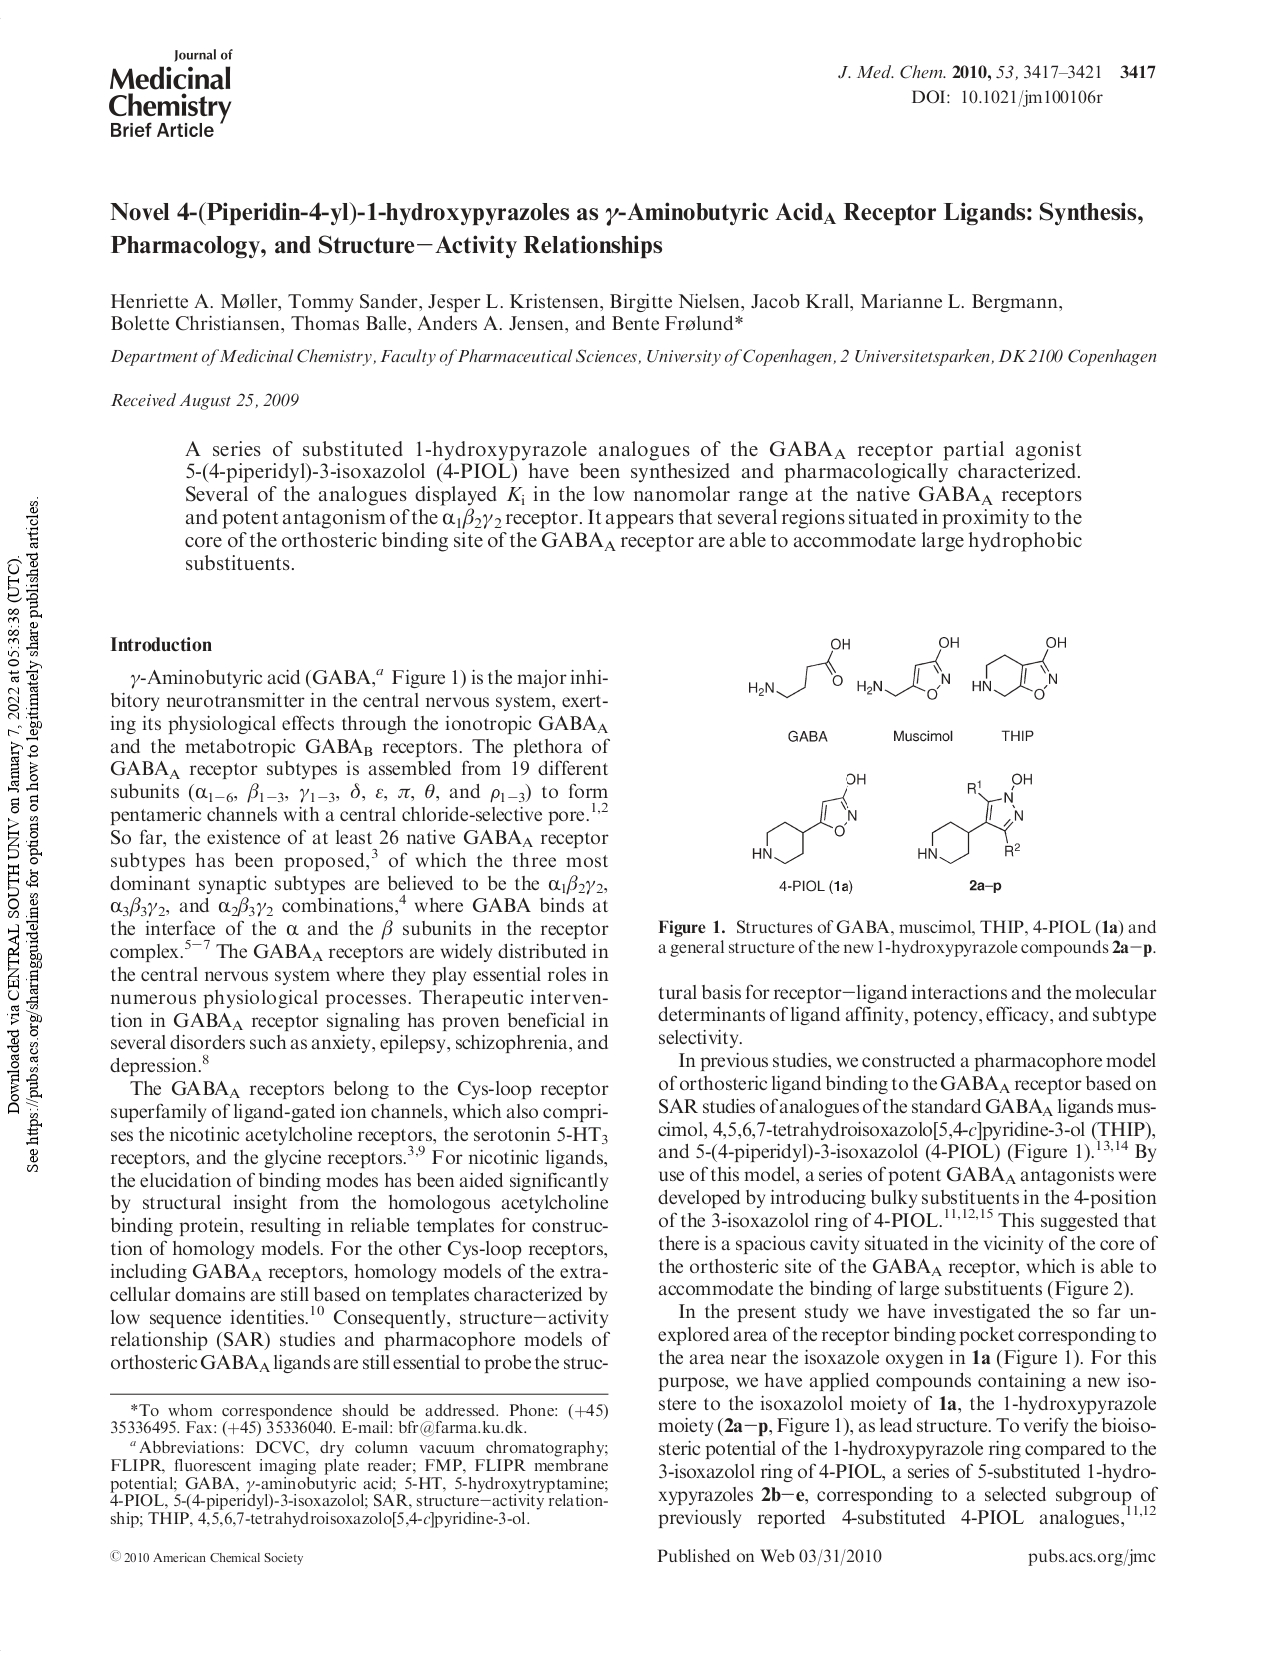exist_molecular: (743, 763, 876, 870), (914, 765, 1037, 867), (854, 629, 963, 711), (968, 632, 1071, 711), (742, 626, 854, 700)
